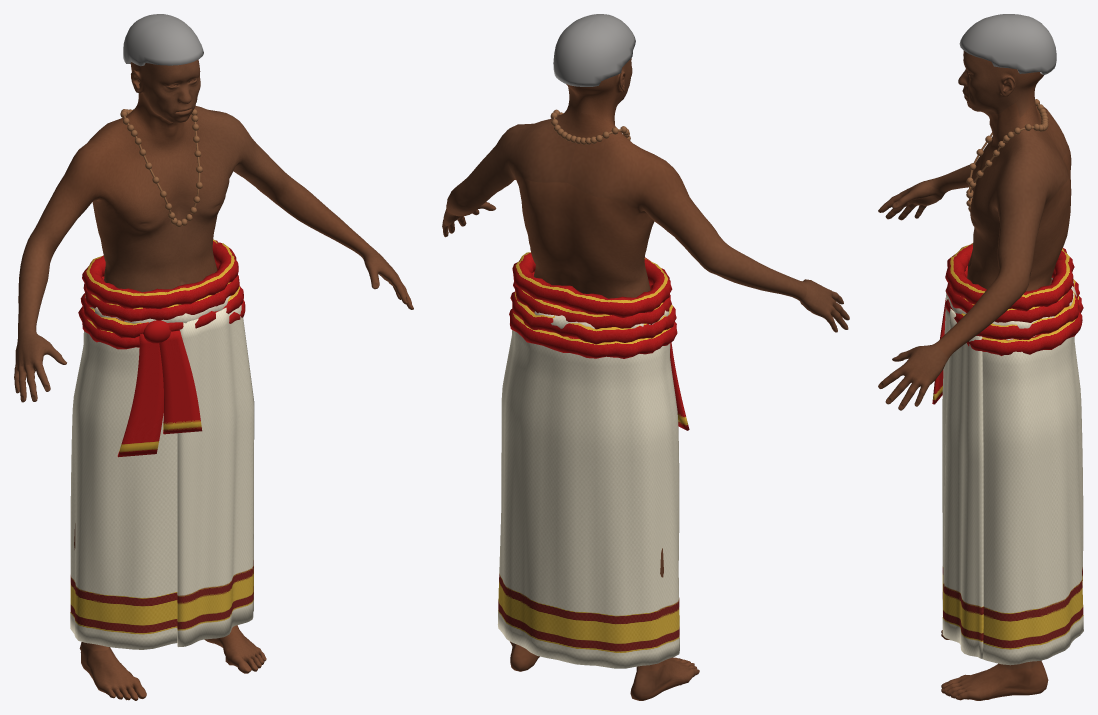
The model's file is kalari_guru.fbx.
The picture shows the model from 3 angles, left to right: view 1: azimuth 30°, elevation 25°; view 2: azimuth 150°, elevation 25°; view 3: azimuth 270°, elevation 25°; orthographic projection.
Visible parts, largest first — view 1: Mixamo_kalari_guru; view 2: Mixamo_kalari_guru; view 3: Mixamo_kalari_guru.
Part boxes in pixels (<box>): Mixamo_kalari_guru: <box>14,14,413,700</box>; Mixamo_kalari_guru: <box>442,14,849,700</box>; Mixamo_kalari_guru: <box>878,14,1083,700</box>.
Bounding box in the file's own units: 1.09 × 1.71 × 0.4938.
Materials: 5 (3 with a texture image).
